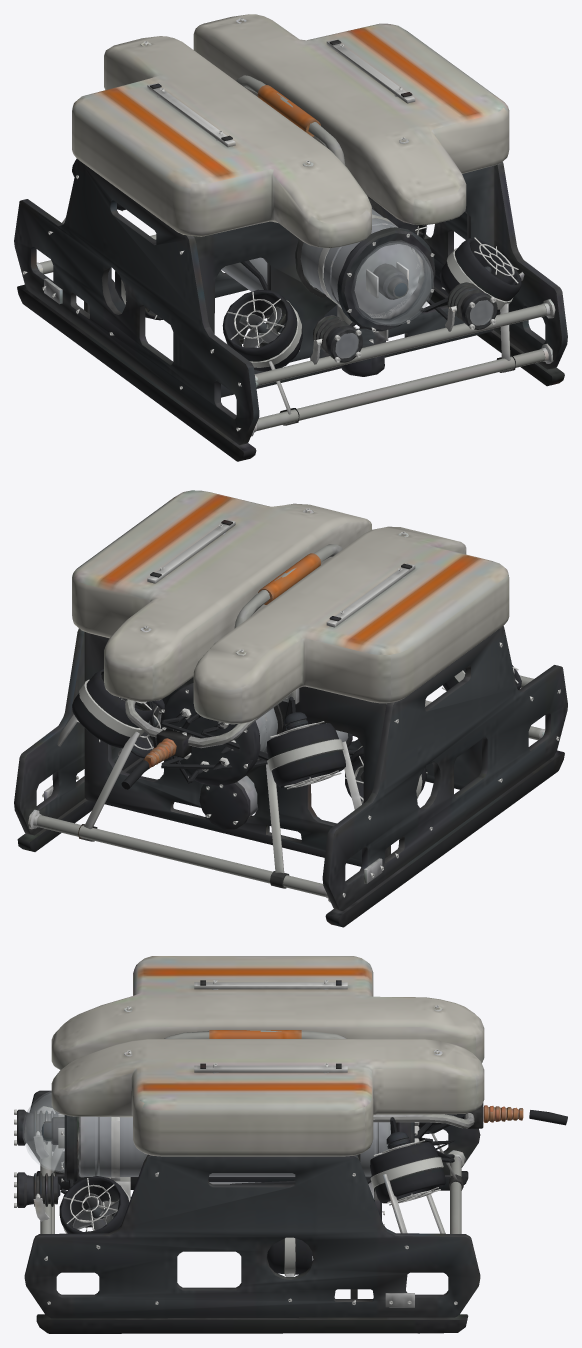
The model's file is observation_rov_lod2.glb.
The picture shows the model from 3 angles, top to bottom: view 1: azimuth 30°, elevation 25°; view 2: azimuth 150°, elevation 25°; view 3: azimuth 270°, elevation 25°; orthographic projection. The views are drawn at different scales.
Visible parts, largest first — view 1: observation_rov_hull, thruster_1_stbd_front, thruster_0_port_front, lamp_0_body, lamp_1_body, Rotor_1_propeller, camera_body, thruster_1_guard; view 2: observation_rov_hull, thruster_3_stbd_aft, thruster_2_port_aft, thruster_5_stbd_long; view 3: observation_rov_hull, thruster_2_port_aft, thruster_0_port_front, thruster_4_port_long, lamp_0_body, lamp_1_body, Rotor_0_propeller, thruster_0_guard.
Boxes of the visible parts, left/top/right/bottom form: observation_rov_hull: left=14, top=14, right=567, bottom=461; thruster_1_stbd_front: left=222, top=289, right=302, bottom=371; thruster_0_port_front: left=439, top=238, right=521, bottom=313; lamp_0_body: left=447, top=282, right=497, bottom=329; lamp_1_body: left=313, top=315, right=362, bottom=362; Rotor_1_propeller: left=239, top=306, right=281, bottom=347; camera_body: left=373, top=263, right=408, bottom=299; thruster_1_guard: left=227, top=291, right=299, bottom=351; observation_rov_hull: left=14, top=490, right=567, bottom=927; thruster_3_stbd_aft: left=266, top=712, right=345, bottom=787; thruster_2_port_aft: left=72, top=669, right=154, bottom=748; thruster_5_stbd_long: left=345, top=746, right=426, bottom=804; observation_rov_hull: left=23, top=956, right=567, bottom=1333; thruster_2_port_aft: left=370, top=1132, right=445, bottom=1203; thruster_0_port_front: left=59, top=1176, right=130, bottom=1233; thruster_4_port_long: left=267, top=1237, right=312, bottom=1275; lamp_0_body: left=17, top=1172, right=60, bottom=1207; lamp_1_body: left=17, top=1109, right=57, bottom=1145; Rotor_0_propeller: left=72, top=1193, right=119, bottom=1230; thruster_0_guard: left=63, top=1178, right=117, bottom=1231.
Bounding box in the file's own units: 0.594 × 0.427 × 0.8989.
10 materials, 2 textured.
